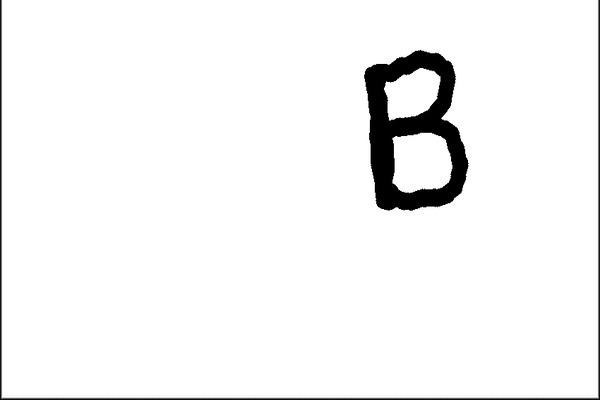B: (356, 43, 474, 213)
